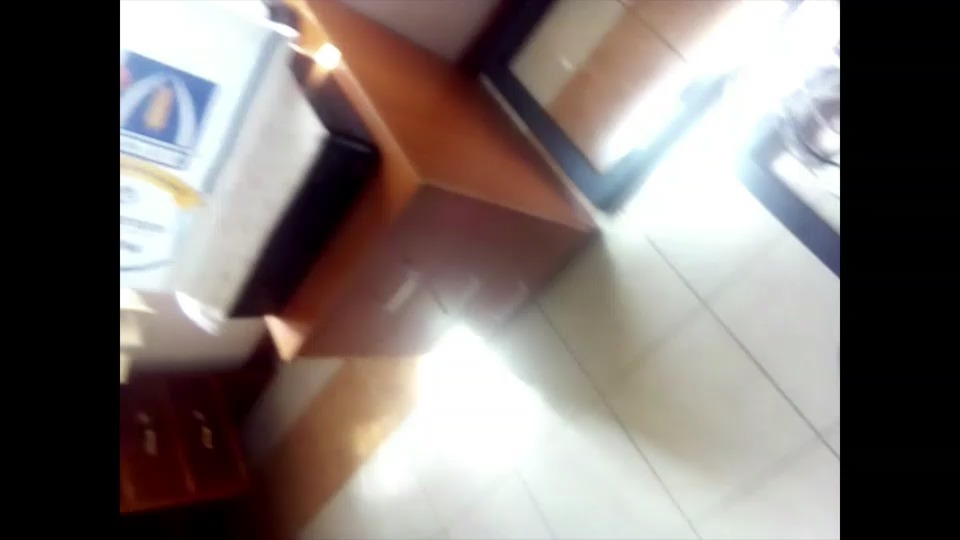wheat_flour_blue_label: (122, 5, 275, 297)
